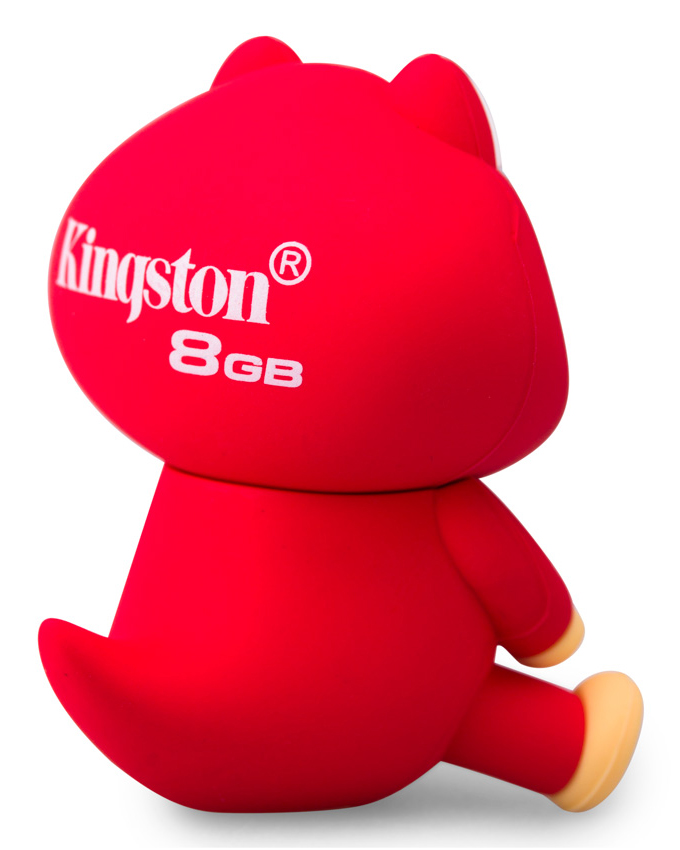Kingston: (52, 207, 326, 333)
